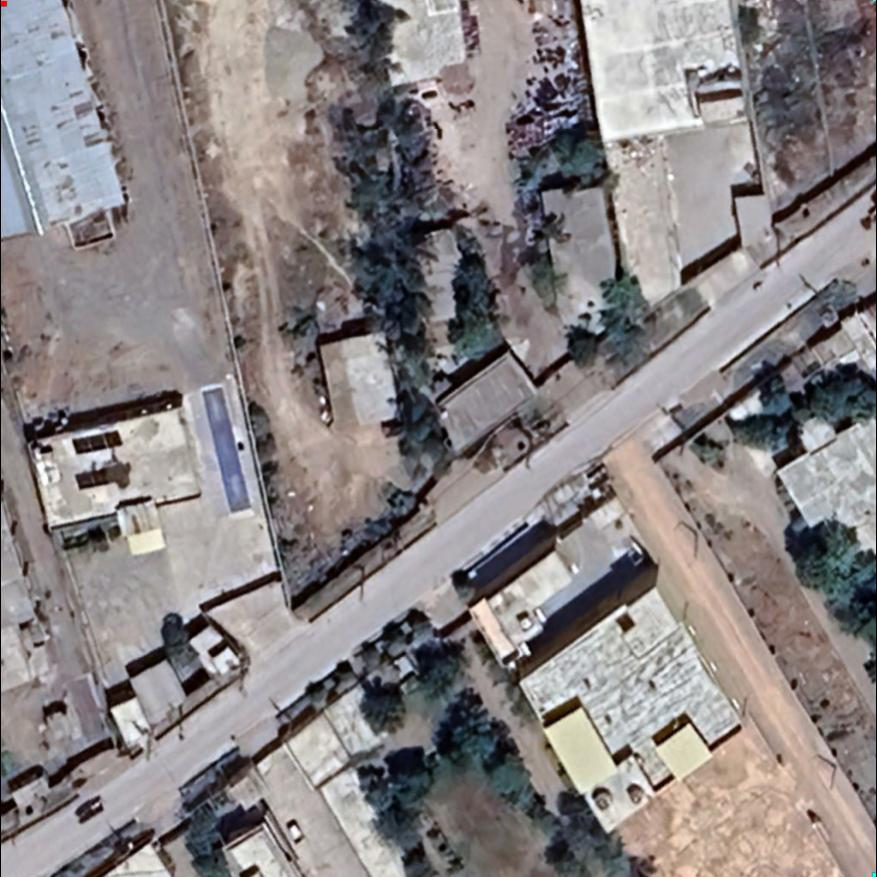Solarpanel: (66, 423, 126, 460), (70, 465, 133, 492)
